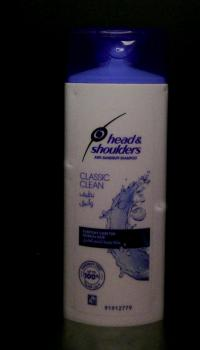dent_marginal: (64, 150, 84, 175), (151, 195, 165, 216)
